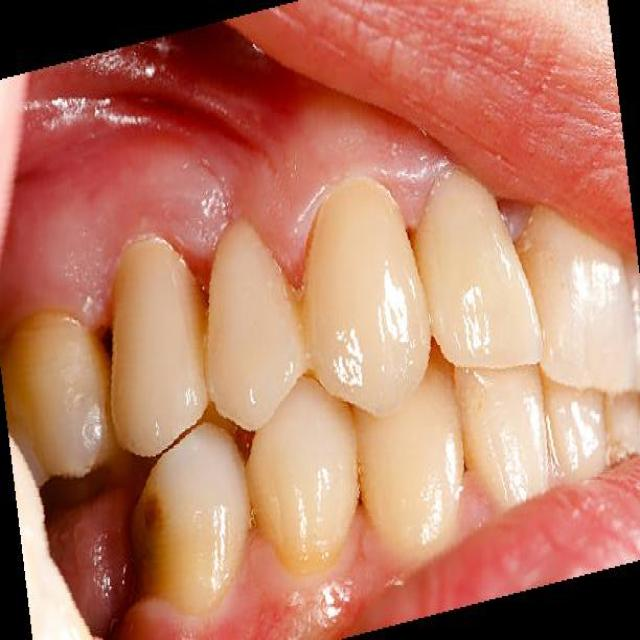caries: (88, 306, 126, 374)
